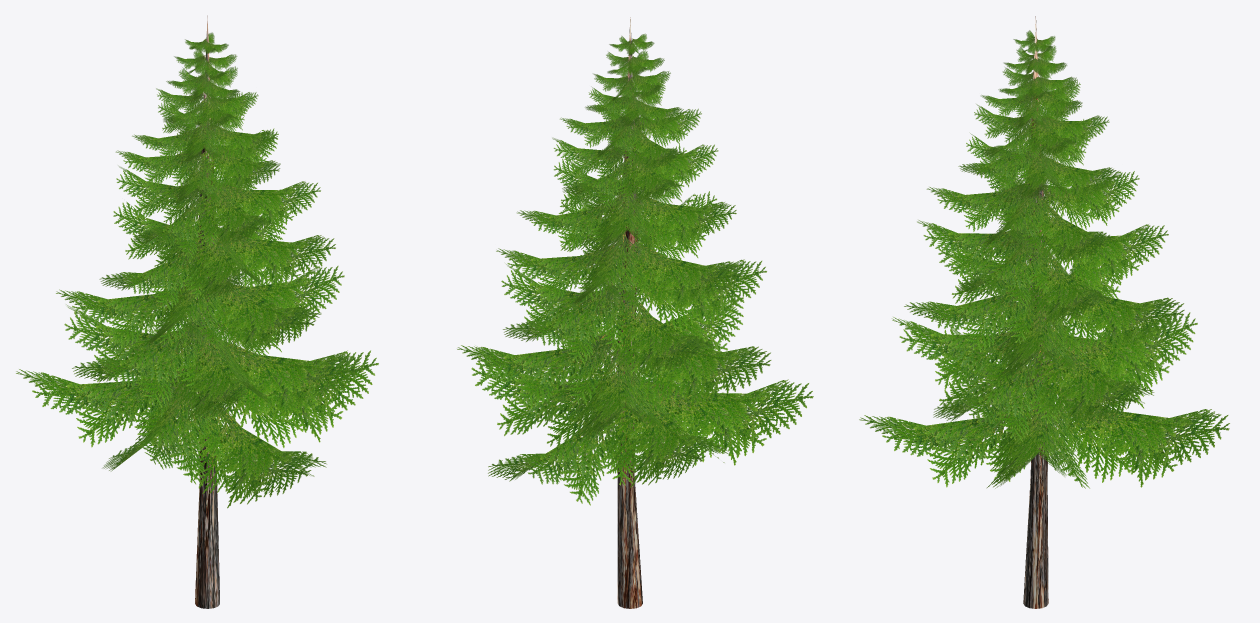
3 renders of one model, left to right at view 1: azimuth 30°, elevation 25°; view 2: azimuth 150°, elevation 25°; view 3: azimuth 270°, elevation 25°, orthographic.
Parts seen in each view (by area): view 1: pCylinder2_Fir_Tree_Branch_0_6, pCylinder2_fir_trunk_0_5; view 2: pCylinder2_Fir_Tree_Branch_0_6, pCylinder2_fir_trunk_0_5; view 3: pCylinder2_Fir_Tree_Branch_0_6, pCylinder2_fir_trunk_0_5.
Boxes of the visible parts, x1,y1,x2,y2 form: pCylinder2_Fir_Tree_Branch_0_6: (16,32,378,508); pCylinder2_fir_trunk_0_5: (195,15,219,608); pCylinder2_Fir_Tree_Branch_0_6: (457,33,813,505); pCylinder2_fir_trunk_0_5: (617,17,642,608); pCylinder2_Fir_Tree_Branch_0_6: (859,30,1229,488); pCylinder2_fir_trunk_0_5: (1023,16,1050,608).
Bounding box in the file's own units: 366 × 610 × 372.
Materials: 2 (2 with a texture image).
